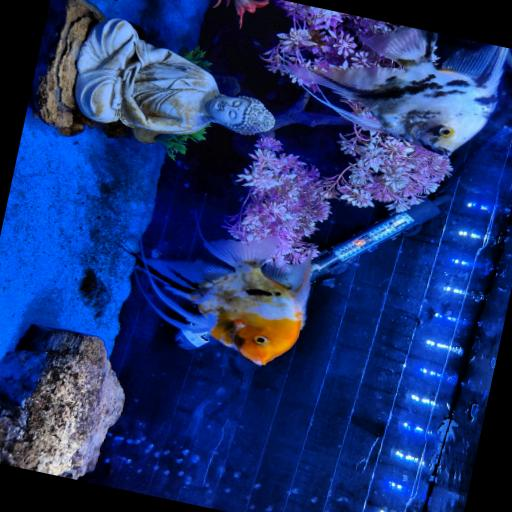Fish: (286, 26, 507, 155), (136, 237, 309, 364)
